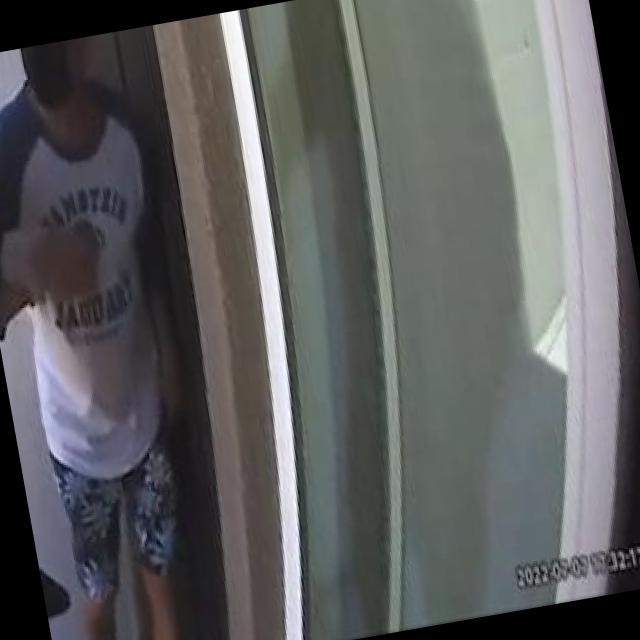Guns: (32, 525, 85, 630)
